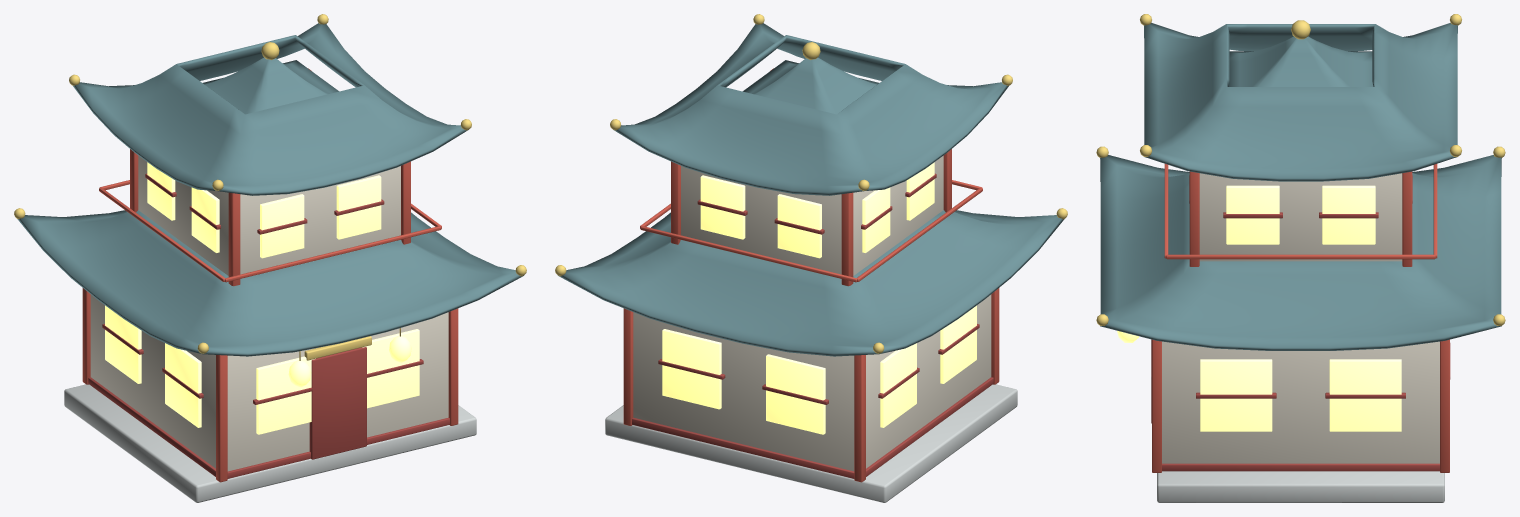
The model's file is house.glb.
3 views of the same model, side by side, from view 1: azimuth 30°, elevation 25°; view 2: azimuth 150°, elevation 25°; view 3: azimuth 270°, elevation 25° (orthographic). The views are drawn at different scales.
Visible parts, largest first — view 1: L1Eave, L2Eave, L1Wall, Base, L2Wall, Door, Cap, L1Win.005, L1Win.004, L2Win.004, L2Win.005, L1Win.002 (+13 smaller); view 2: L1Eave, L2Eave, L1Wall, Base, L2Wall, Cap, L1Win.001, L1Win, L2Win.001, L2Win, L1Win.003, L1Win.002 (+11 smaller); view 3: L1Eave, L2Eave, L1Wall, L2Wall, Base, Cap, L1Win.006, L1Win.007, L2Win.006, L2Win.007, L1Bot.003, Rail.003 (+6 smaller).
Boxes of the visible parts, box(x1,y1,x2,y2) form: L1Eave: box(17, 210, 523, 356); L2Eave: box(73, 23, 468, 195); L1Wall: box(90, 294, 448, 471); Base: box(64, 384, 476, 502); L2Wall: box(138, 156, 400, 278); Door: box(309, 347, 366, 459); Cap: box(203, 57, 338, 114); L1Win.005: box(256, 356, 315, 434); L1Win.004: box(362, 329, 419, 408); L2Win.004: box(336, 175, 381, 239); L2Win.005: box(260, 194, 304, 258); L1Win.002: box(165, 343, 201, 427); L1Eave: box(558, 210, 1064, 356); L2Eave: box(613, 23, 1008, 195); L1Wall: box(633, 294, 991, 471); Base: box(605, 384, 1017, 502); L2Wall: box(681, 156, 943, 275); Cap: box(743, 57, 878, 114); L1Win.001: box(662, 329, 721, 409); L1Win: box(766, 354, 825, 434); L2Win.001: box(700, 175, 745, 239); L2Win: box(777, 194, 821, 258); L1Win.003: box(880, 343, 916, 427); L1Win.002: box(940, 305, 976, 383); L1Eave: box(1100, 155, 1501, 350); L2Eave: box(1144, 23, 1457, 181); L1Wall: box(1162, 341, 1439, 463); L2Wall: box(1199, 173, 1402, 261); Base: box(1157, 471, 1444, 502); Cap: box(1229, 36, 1372, 86); L1Win.006: box(1329, 359, 1401, 431); L1Win.007: box(1200, 359, 1272, 431); L2Win.006: box(1322, 185, 1375, 244); L2Win.007: box(1226, 185, 1279, 244); L1Bot.003: box(1162, 463, 1439, 471); Rail.003: box(1166, 254, 1435, 259).
Size of the model in its own units: 6.53 by 7.21 by 6.54.
